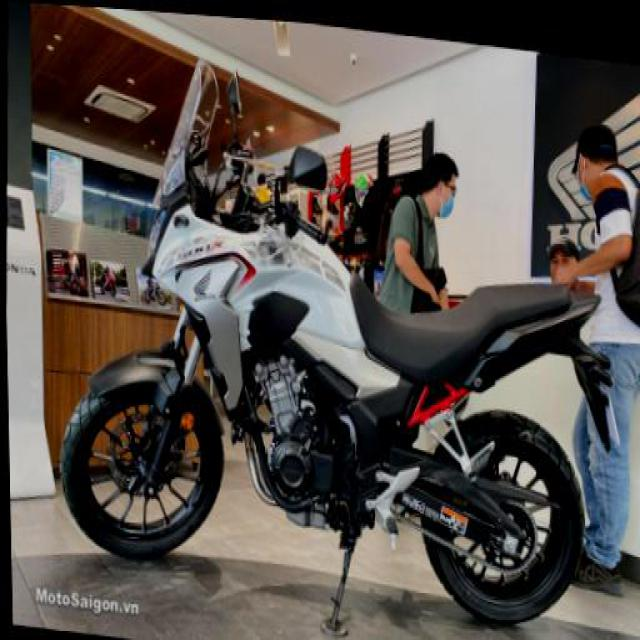CB500X: (46, 41, 600, 634)
